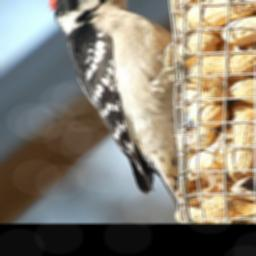Woodpecker: (47, 0, 187, 204)
